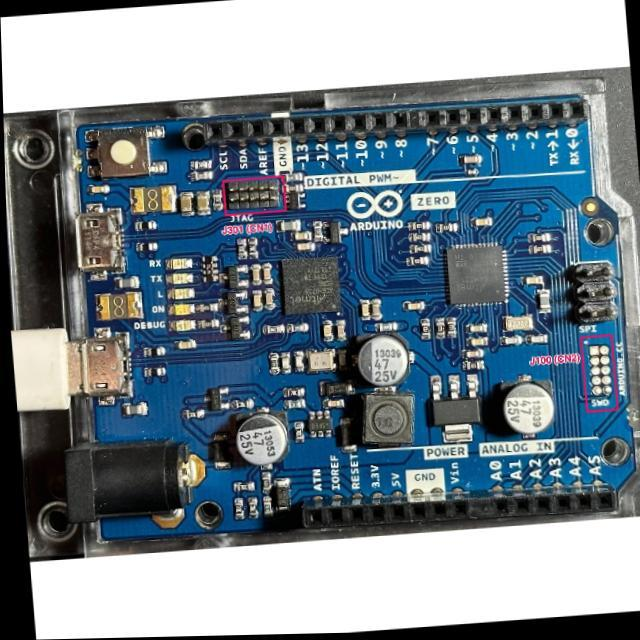Arduino-Zero: (62, 79, 638, 543)
